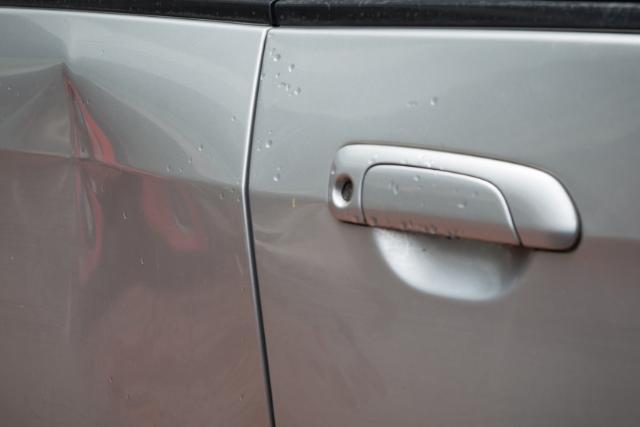Door: (0, 24, 227, 332)
